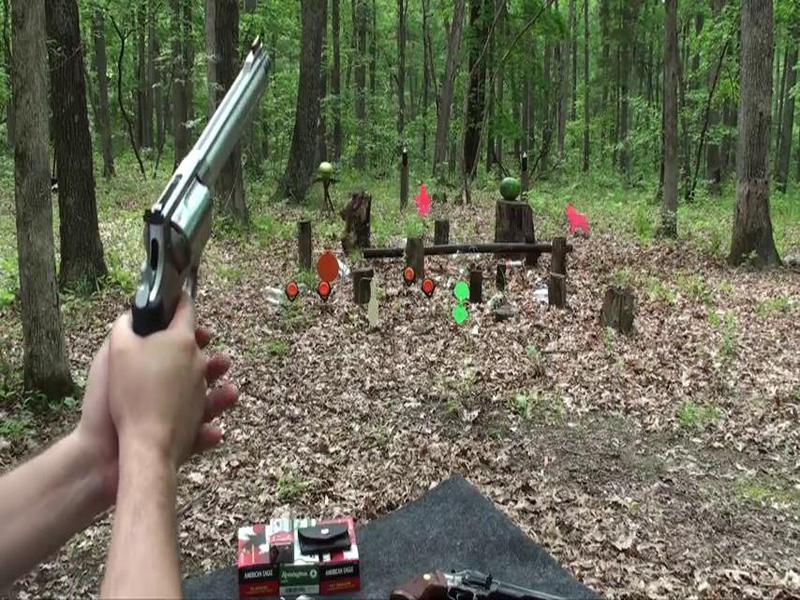Revolver: (123, 35, 280, 356)
